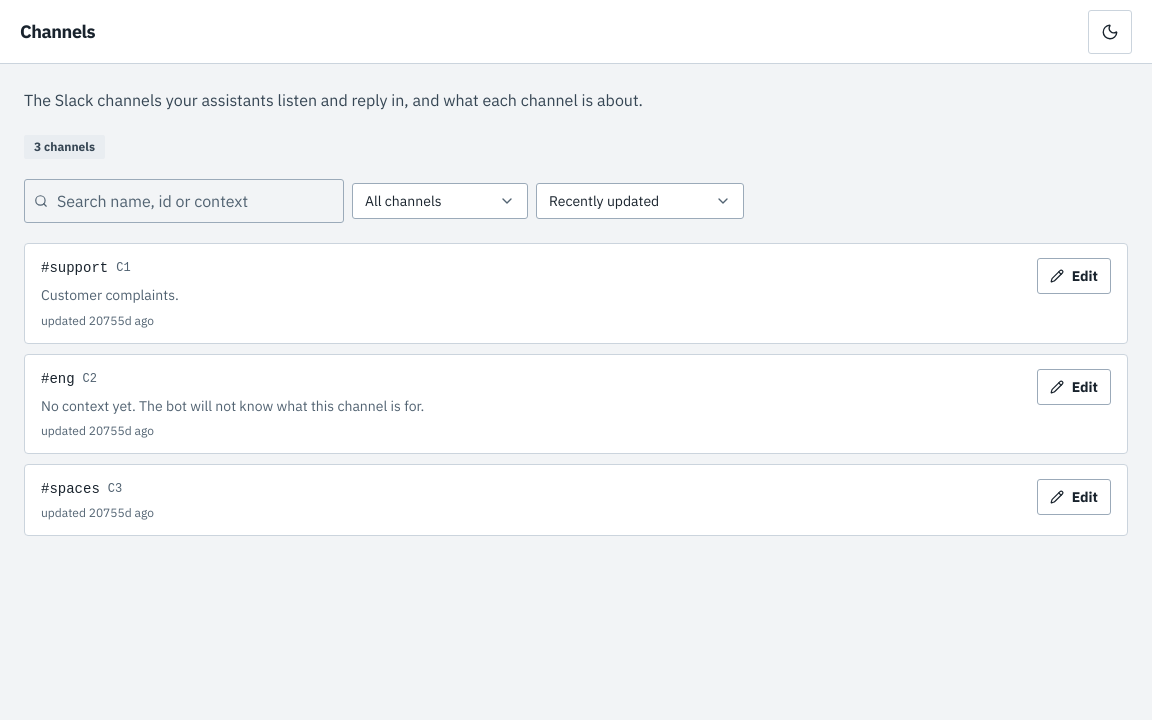
ChannelsPanel › filters to the channels a description has been set on
Expected: the number of list items with test id "slack-channel-row" is 3, left=24, top=243, right=1128, bottom=344; left=24, top=354, right=1128, bottom=454; left=24, top=464, right=1128, bottom=536
Click the dropdown named "Filter by context": (440, 201) left=352, top=183, right=528, bottom=219
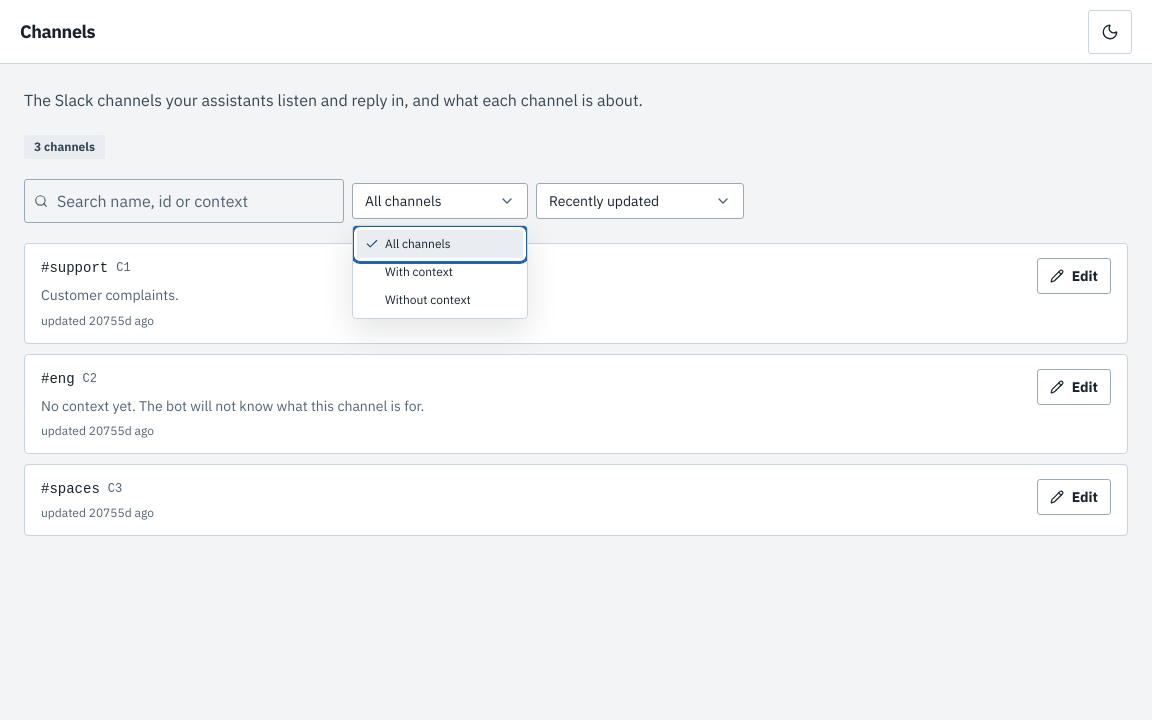
Click the option "With context": (419, 272) left=385, top=264, right=453, bottom=279
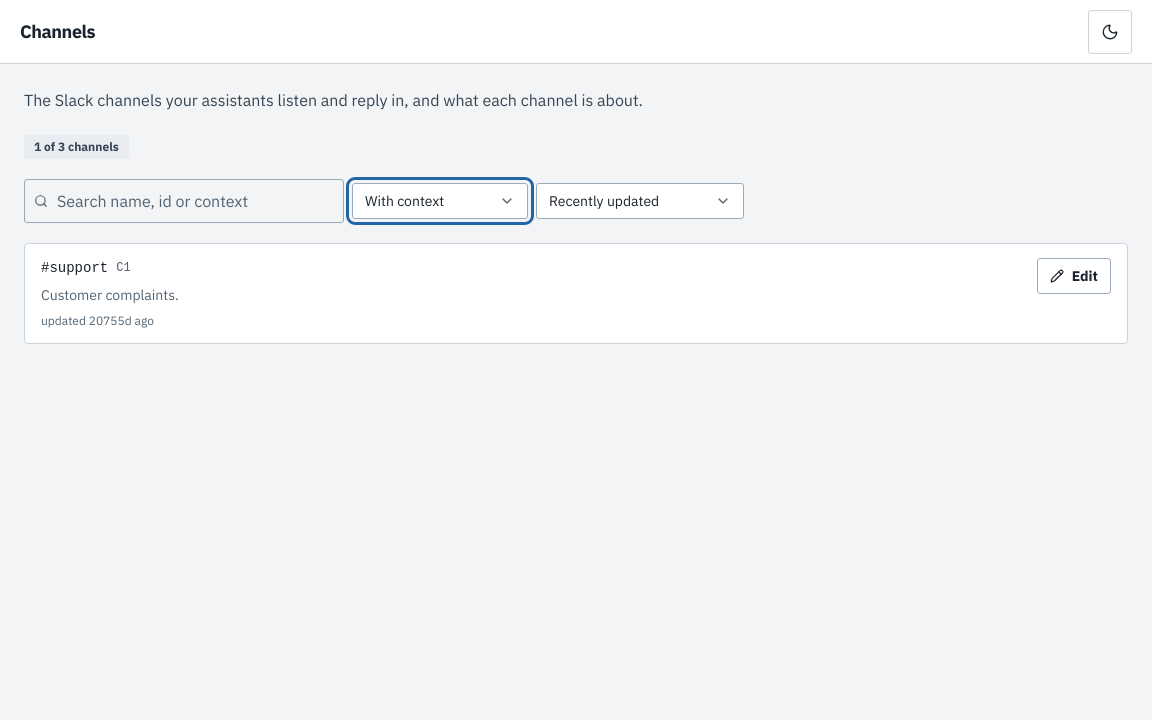
Expected: the list item with test id "slack-channel-row" shows "#support", left=41, top=260, right=108, bottom=276
Expected: the number of list items with test id "slack-channel-row" is 1, left=24, top=243, right=1128, bottom=344
Click the dropdown named "Filter by context": (440, 201) left=352, top=183, right=528, bottom=219
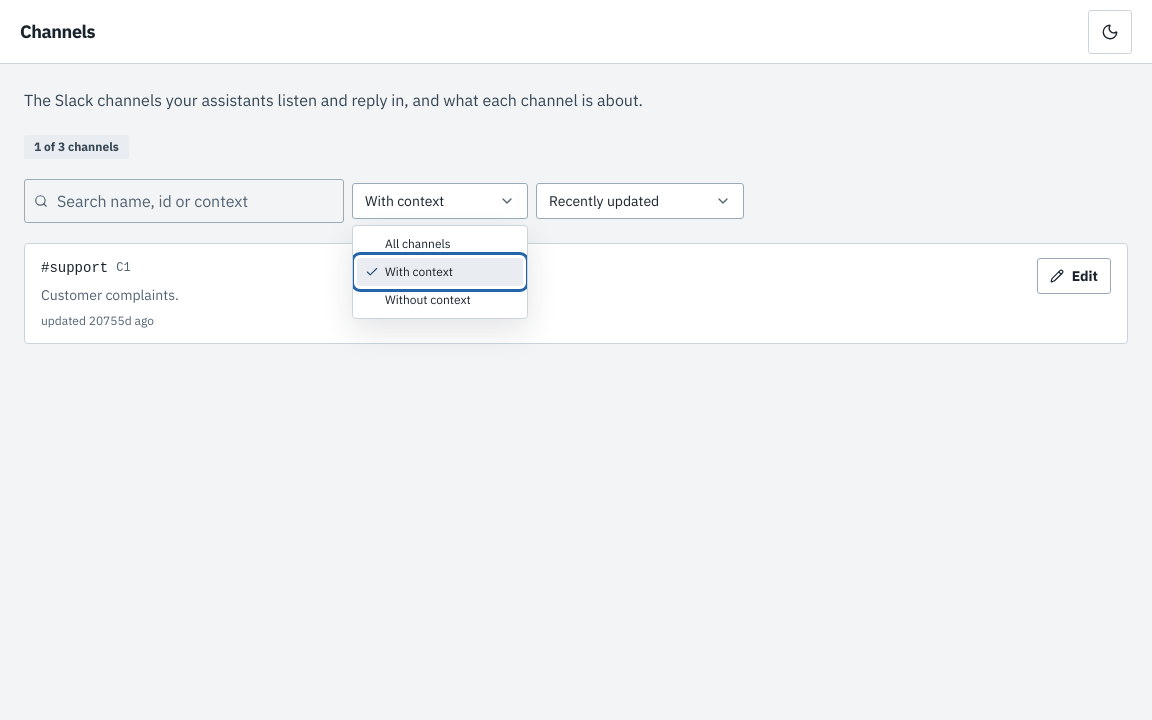
Click the option "Without context": (428, 300) left=385, top=292, right=471, bottom=307
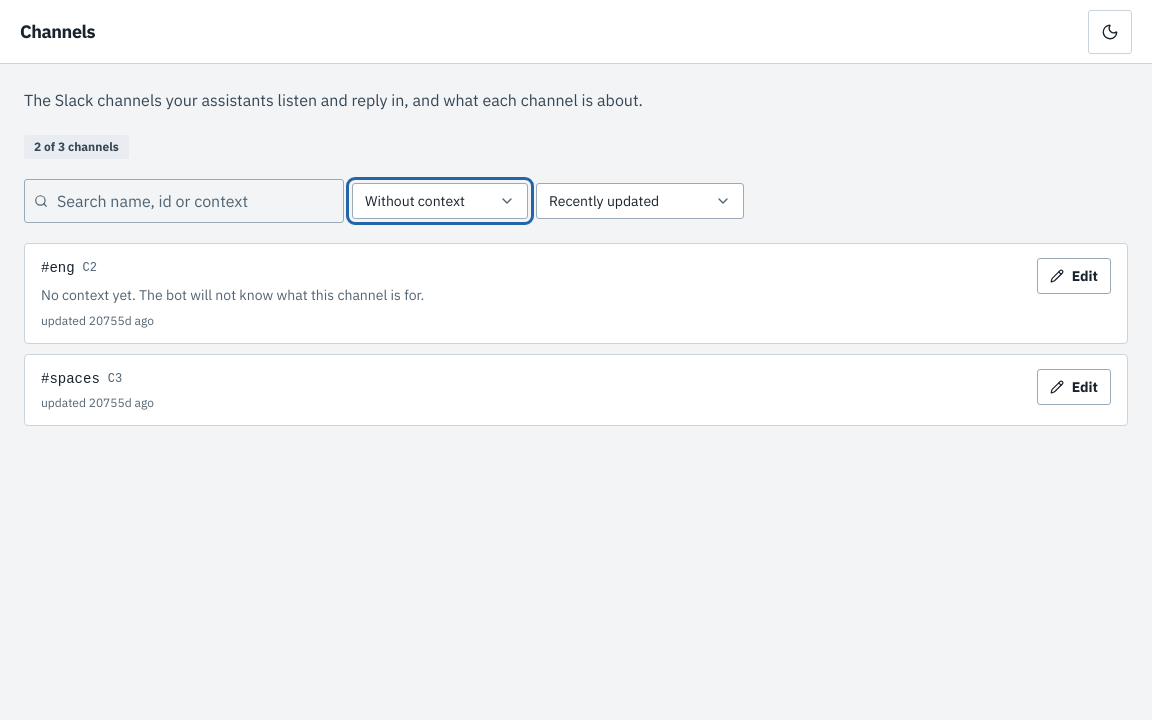
Expected: the number of list items with test id "slack-channel-row" is 2, left=24, top=243, right=1128, bottom=344; left=24, top=354, right=1128, bottom=426
